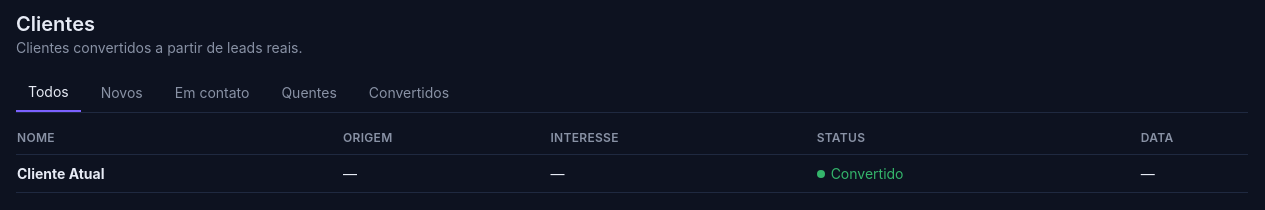
Test: SalesPanel › filterIntent='customer' segue o mesmo padrão de Leads (mesmas abas), mas só com dados reais de clientes convertidos
Expected: the text "Cliente Atual" is shown, [17,164,104,182]
Expected: the element showing "Todos Novos Em contato Quentes Convertidos" is shown, [16,74,1248,113]
Note: A aba Quentes não teria conteúdo real aqui — só clientes convertidos entram nesta tela.
Step 1. Click the tab "Quentes" → click(309, 93), box [269,74,349,112]
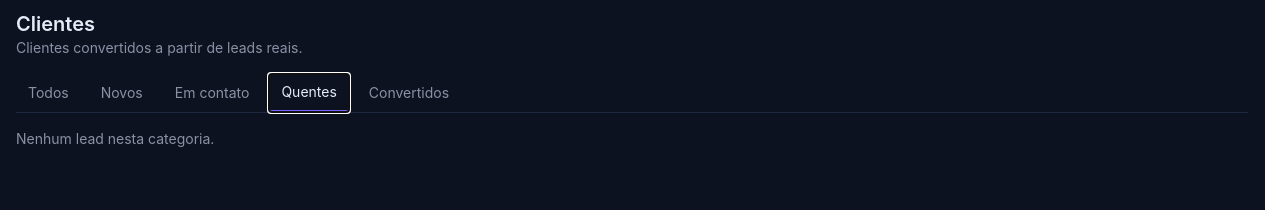
Result: the text "Nenhum lead nesta categoria." is shown at [16,130,214,147]
